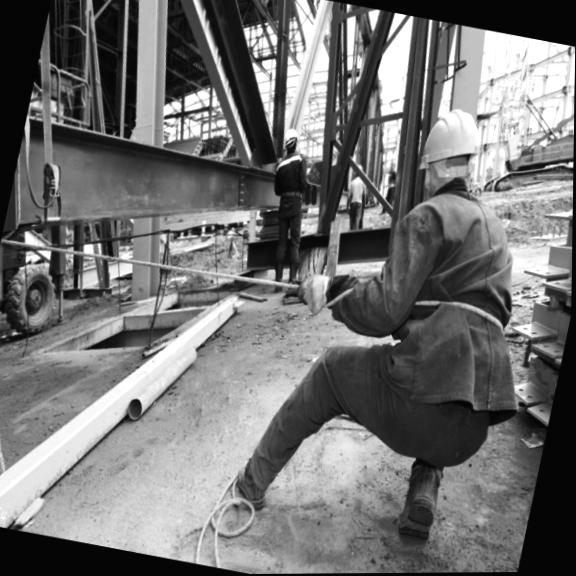no_safety_vest: (373, 189, 513, 409)
